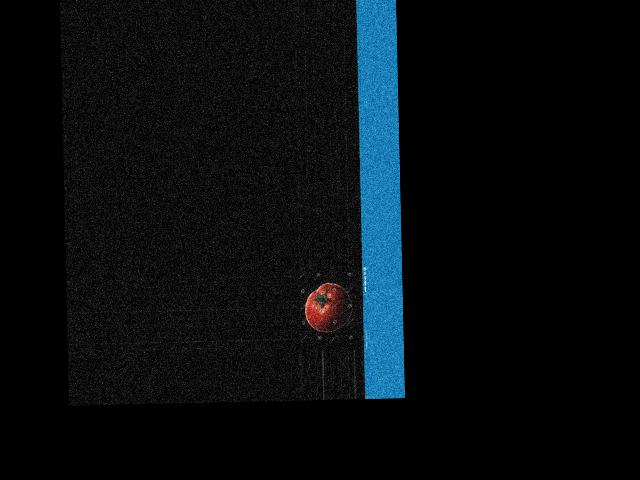tomato: (304, 282, 352, 333)
